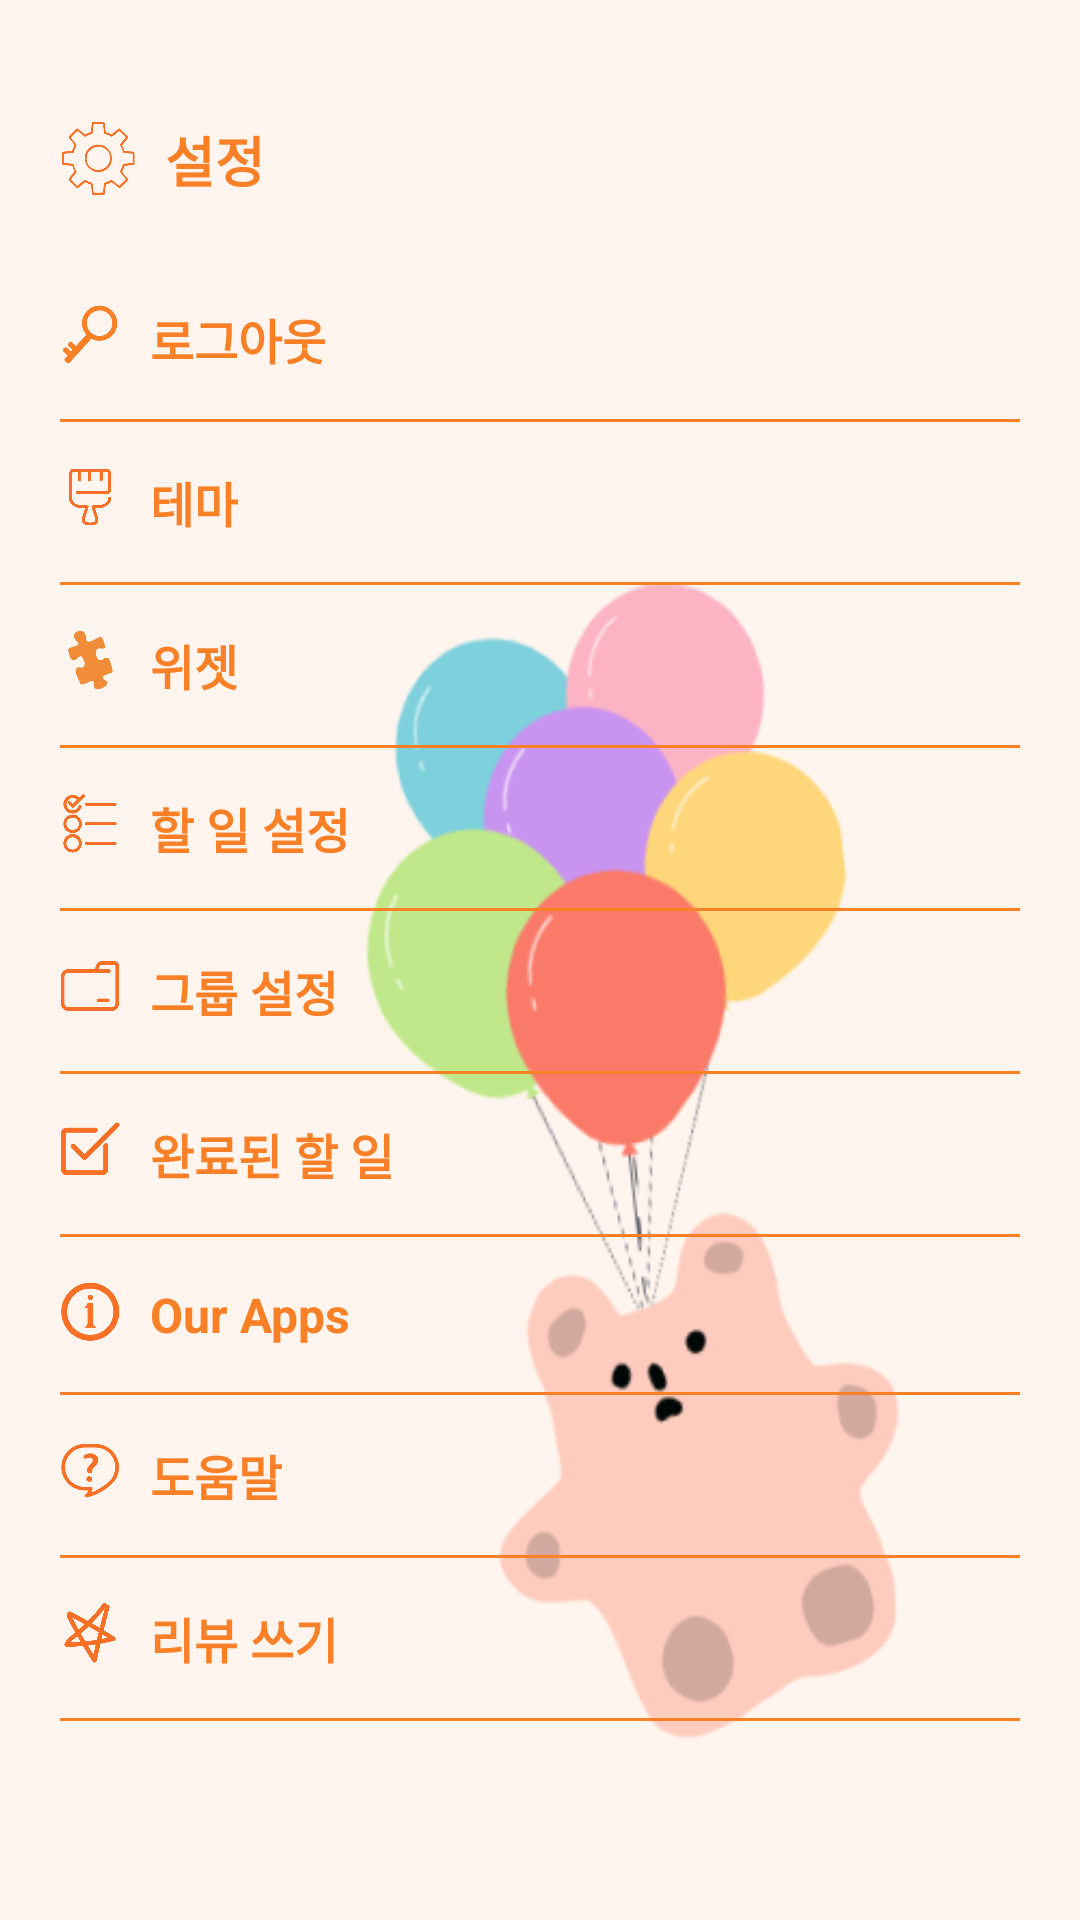

Named icons in this screenshot (1080x1920) and their bounding boxes, BBox(x1, y1, x2, y2):
btnsetting: BBox(62, 122, 135, 195)
finish: BBox(61, 1122, 120, 1175)
help: BBox(61, 1444, 119, 1498)
list: BBox(63, 794, 117, 853)
review: BBox(64, 1603, 116, 1663)
theme: BBox(69, 469, 111, 525)
widget: BBox(68, 631, 113, 689)
